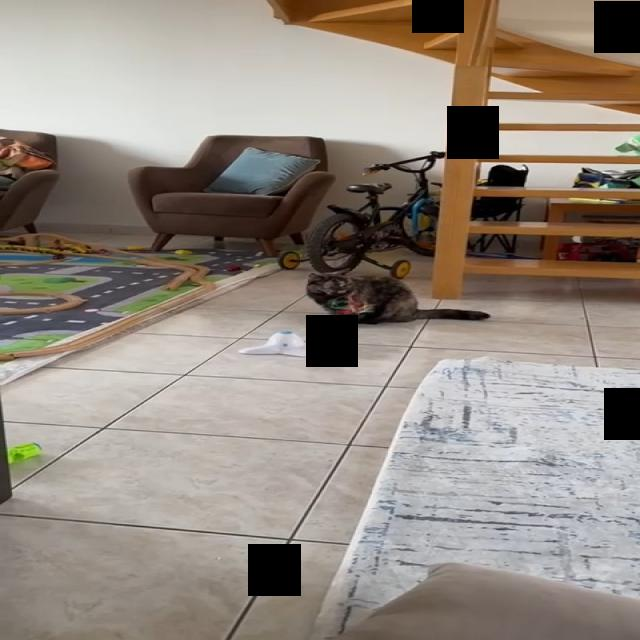authorized: (304, 272, 491, 328)
